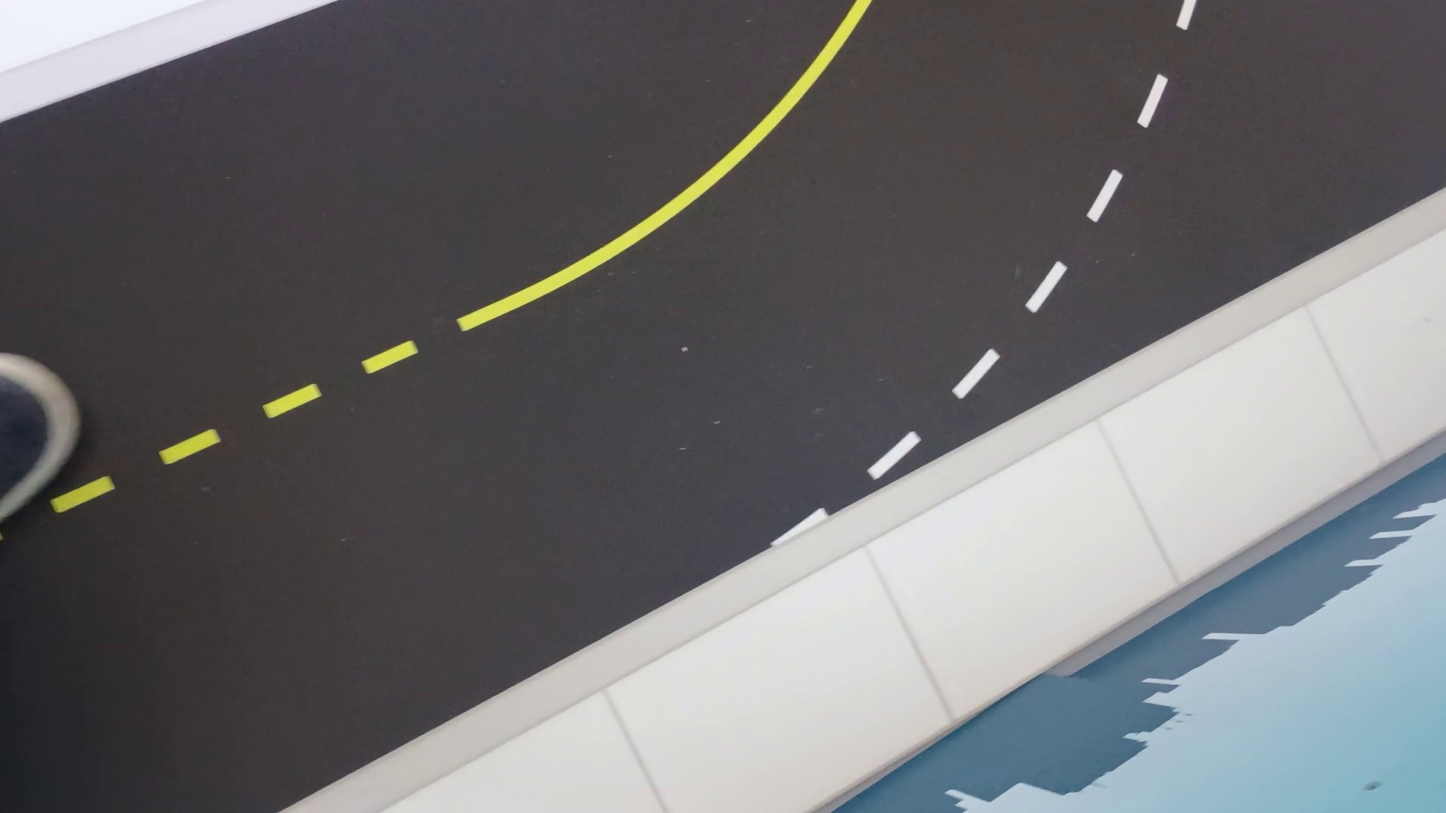Dashed: (868, 431, 920, 478), (952, 349, 999, 398), (51, 477, 114, 512), (770, 508, 827, 546), (160, 430, 220, 464), (1027, 262, 1066, 312), (264, 384, 321, 417), (363, 340, 417, 373), (1088, 172, 1121, 221), (1137, 75, 1167, 126), (1177, 0, 1196, 29)
Solid: (457, 0, 871, 331)
Street: (0, 0, 1445, 812)
